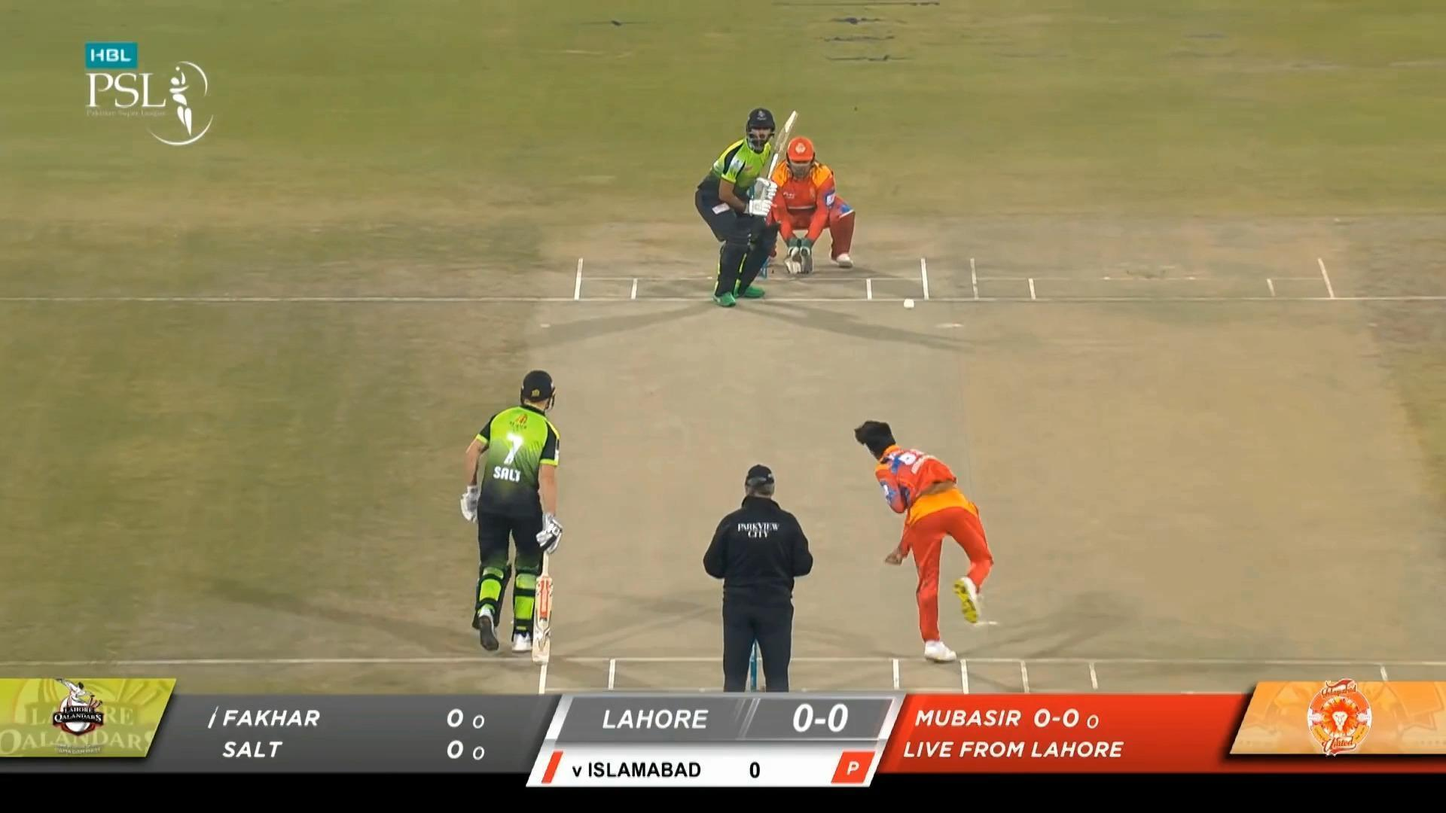BM 1: (695, 108, 799, 307)
BO: (853, 420, 996, 662)
